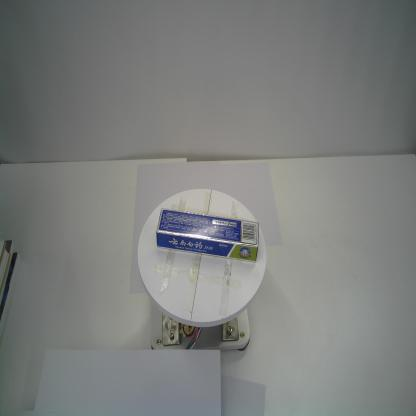Personal Hygiene: (156, 208, 259, 264)
